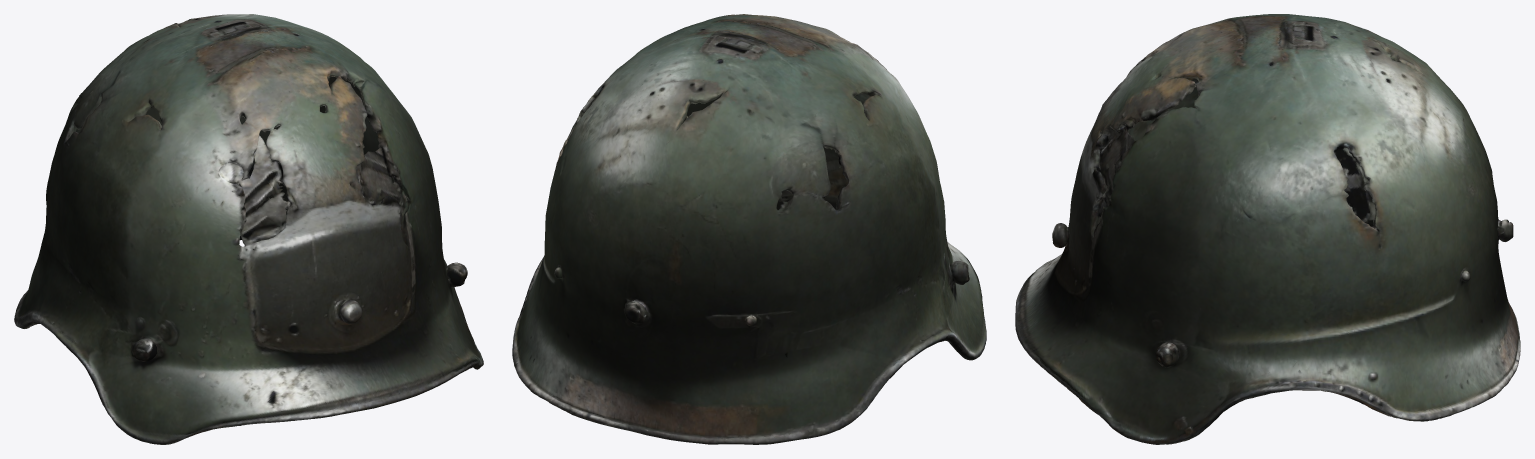
Rendered from meshy_01971bf7-88e7-7518-b0f3-af9fb1142cb8.glb.
The picture shows the model from 3 angles, left to right: view 1: azimuth 30°, elevation 25°; view 2: azimuth 150°, elevation 25°; view 3: azimuth 270°, elevation 25°; orthographic projection. The views are drawn at different scales.
Size of the model in its own units: 1.77 by 1.44 by 2.
Materials: 1 (1 with a texture image).
